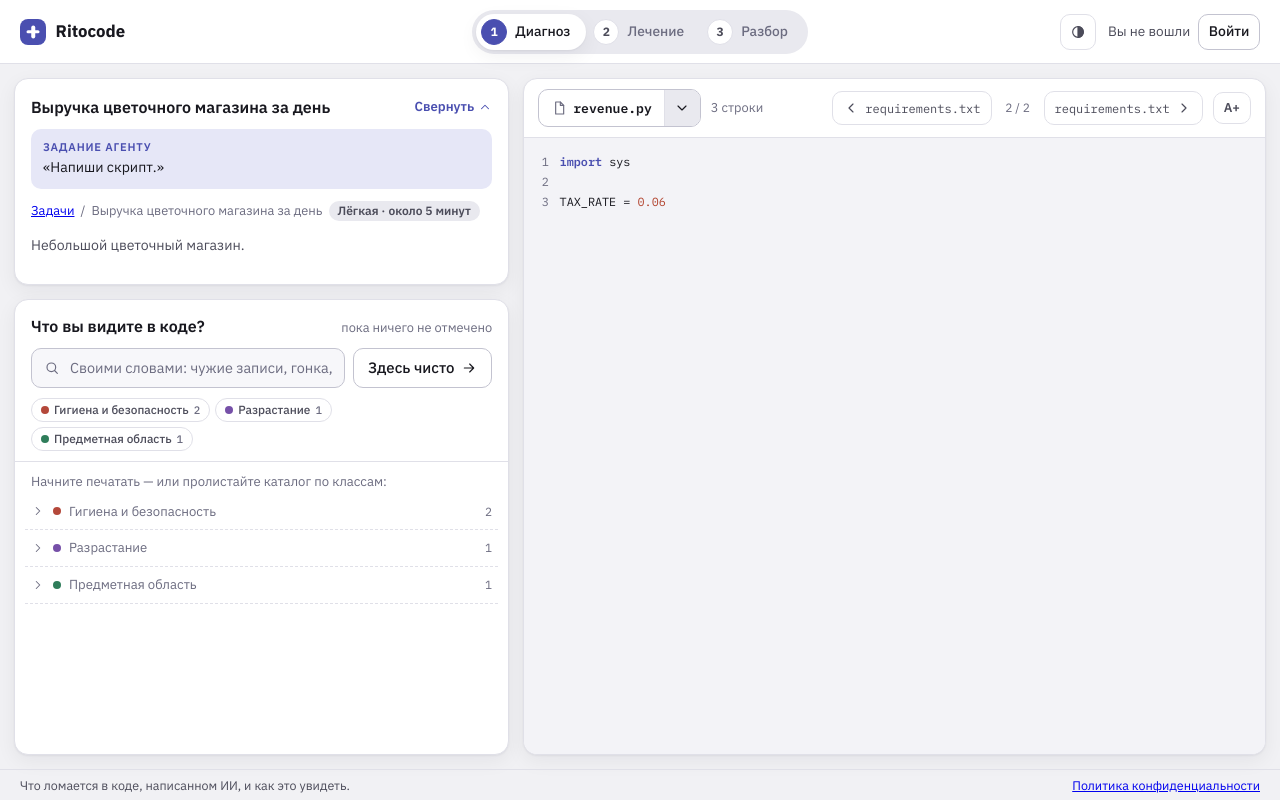
Test case: the task screen › lets a signed-out visitor work through both steps, and asks them to sign in on Check
expect the heading "Выручка цветочного магазина за день" is shown: met, box x1=31 y1=95 x2=330 y2=119
Click the button "Здесь чисто": (422, 368) x1=353 y1=348 x2=492 y2=388
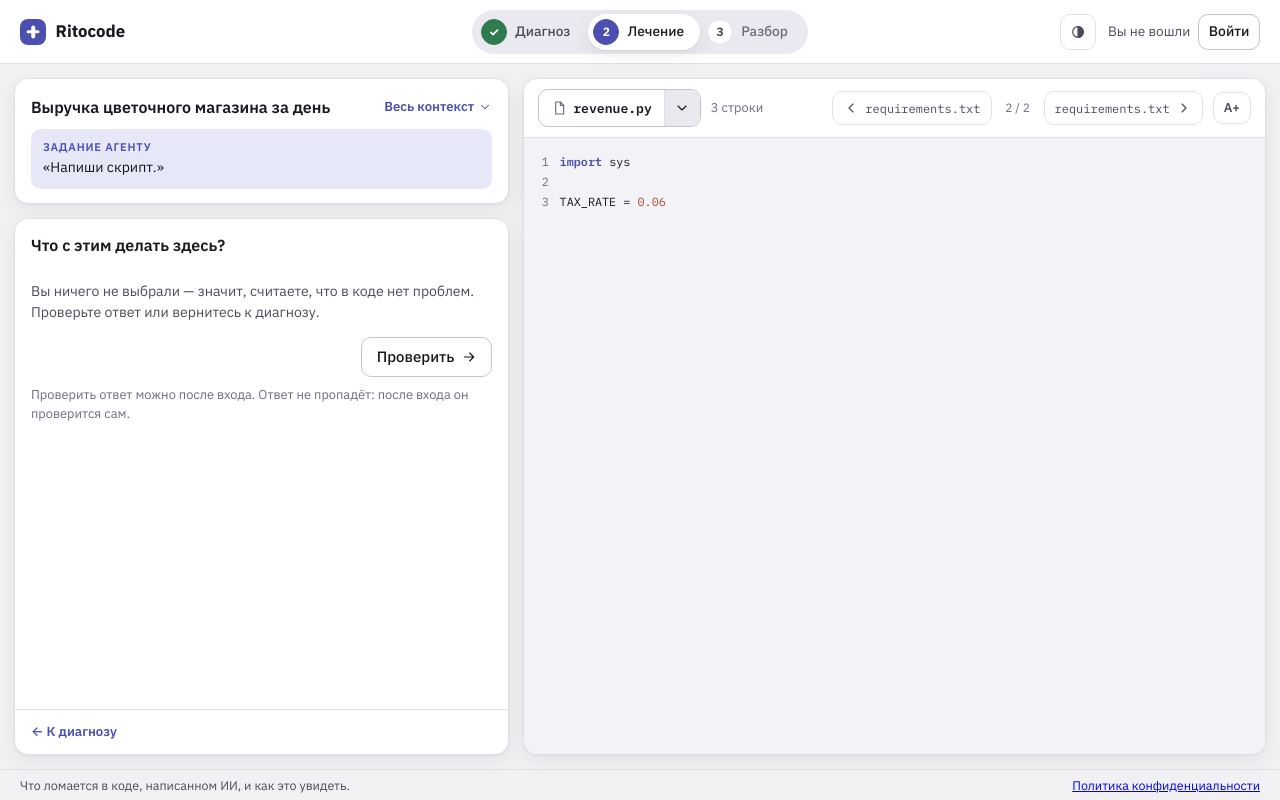
expect the text "Проверить ответ можно после входа. Ответ не пропадёт: после входа он проверится сам." is shown: met, box x1=31 y1=386 x2=468 y2=422
Click the button "Проверить": (427, 357) x1=361 y1=337 x2=492 y2=377
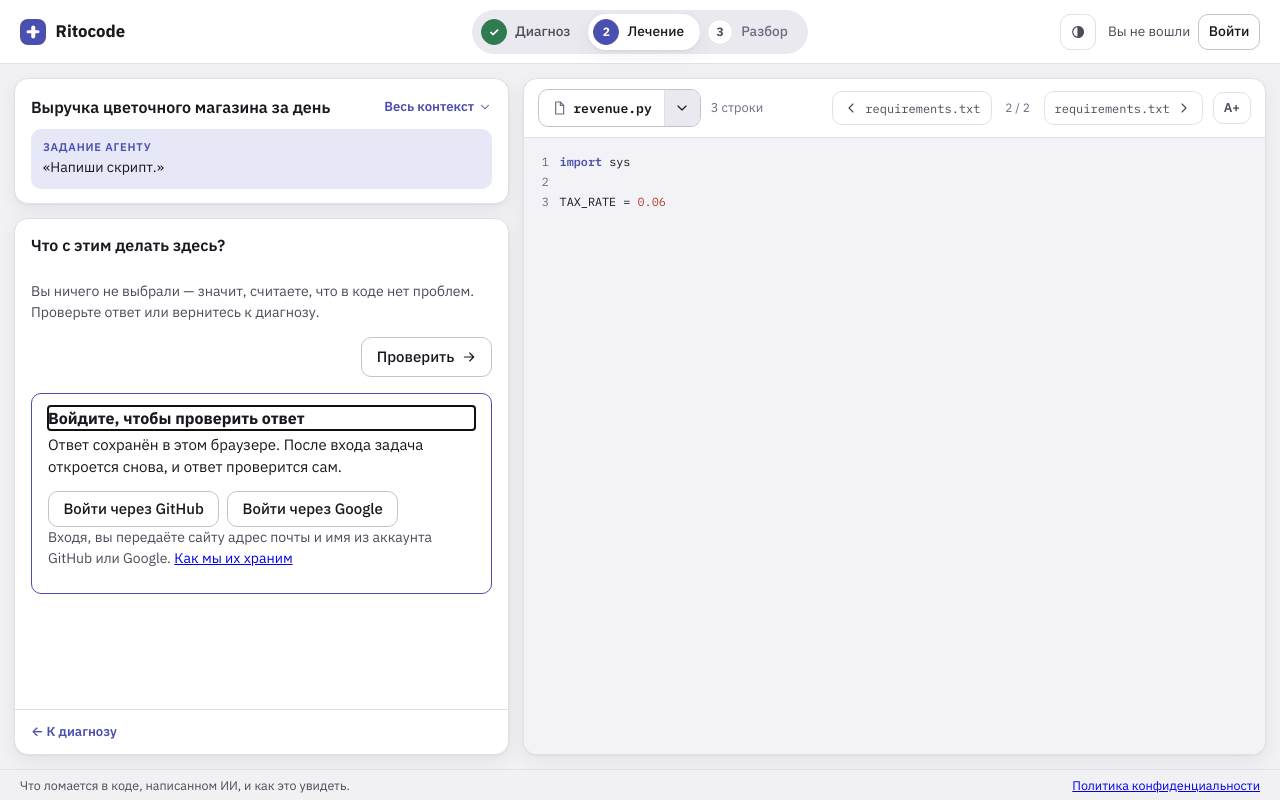
expect the element "Войдите, чтобы проверить ответ" shows "Ответ сохранён в этом браузере. После входа задача откроется снова, и ответ проверится сам.": met, box x1=48 y1=435 x2=423 y2=476
